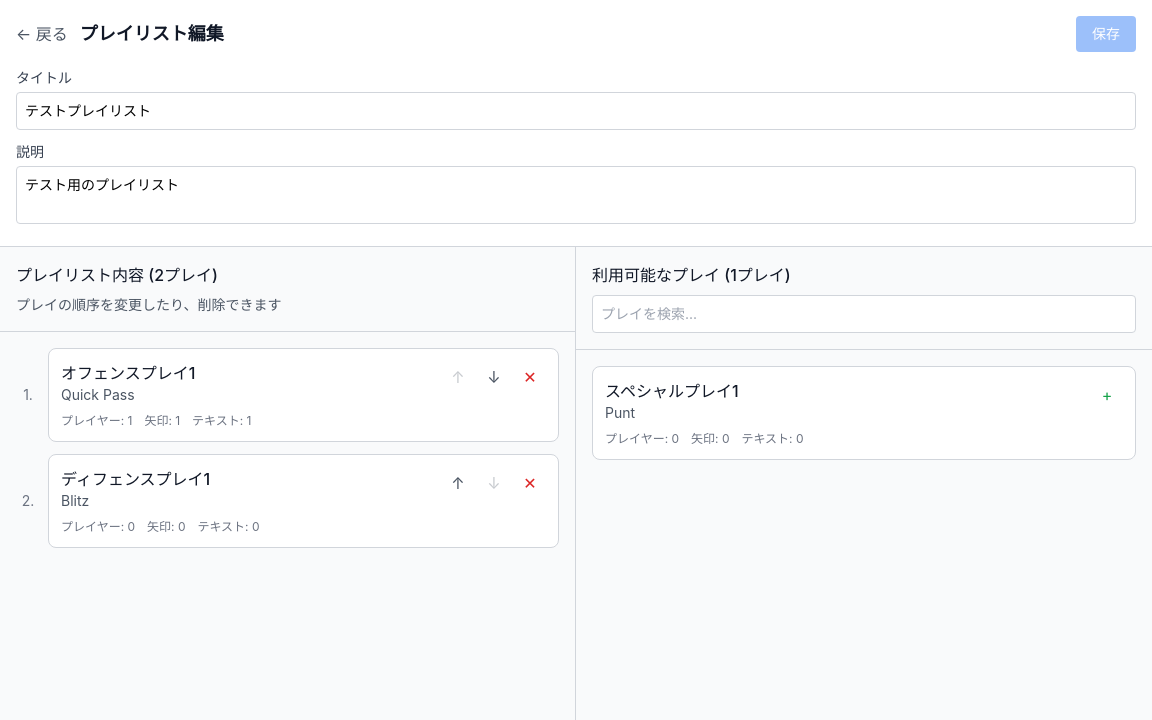
Test: PlaylistEditor › プレイの順序を上に移動できること
This screenshot has width=1152, height=720.
Check: the heading "オフェンスプレイ1" is shown, box [61, 363, 195, 383]
Check: the heading "ディフェンスプレイ1" is shown, box [61, 469, 210, 489]
# 2番目のプレイを上に移動
Click the button titled "上に移動" in the row of "ディフェンスプレイ1". click: click(458, 483)
box: [442, 467, 474, 499]
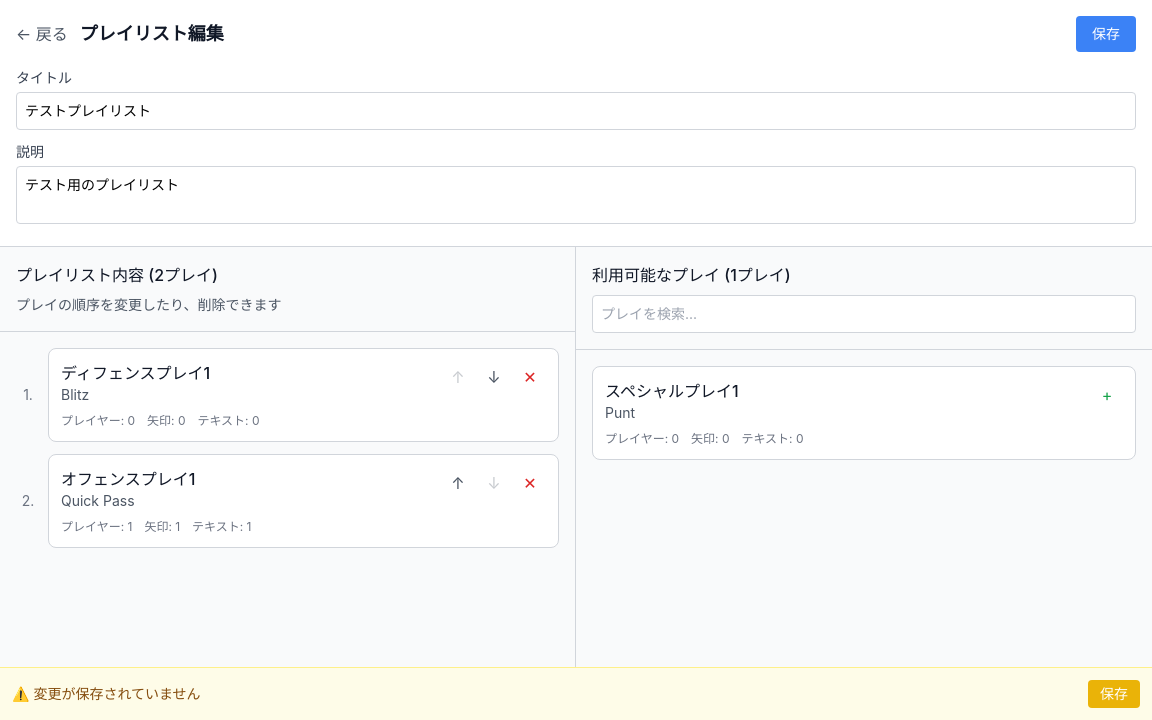
Check: the text "⚠️ 変更が保存されていません" is shown, box [12, 684, 201, 704]
